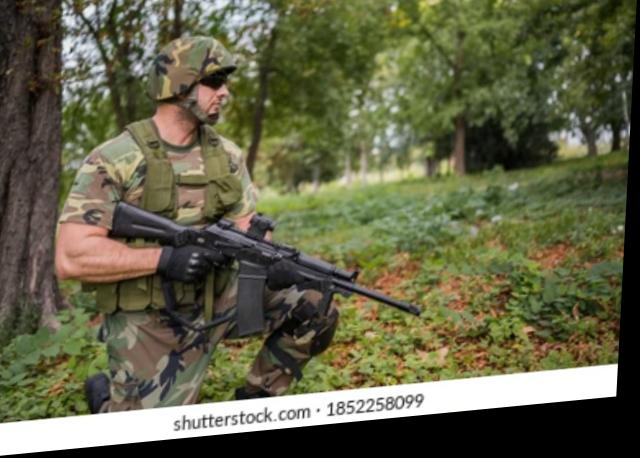other: (41, 20, 310, 410)
